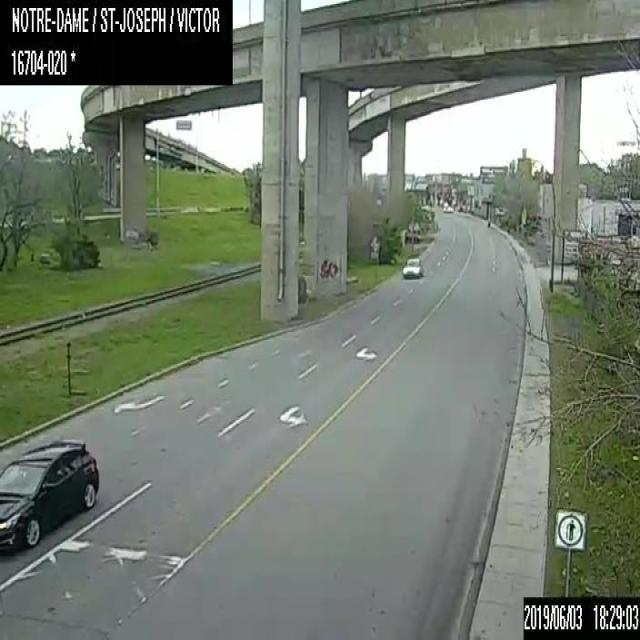vehicle: (0, 438, 98, 554), (401, 256, 423, 278)
